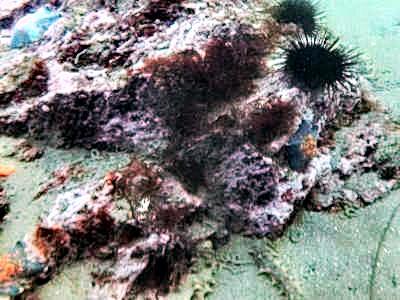urchin: (280, 34, 349, 93), (278, 2, 320, 31)
